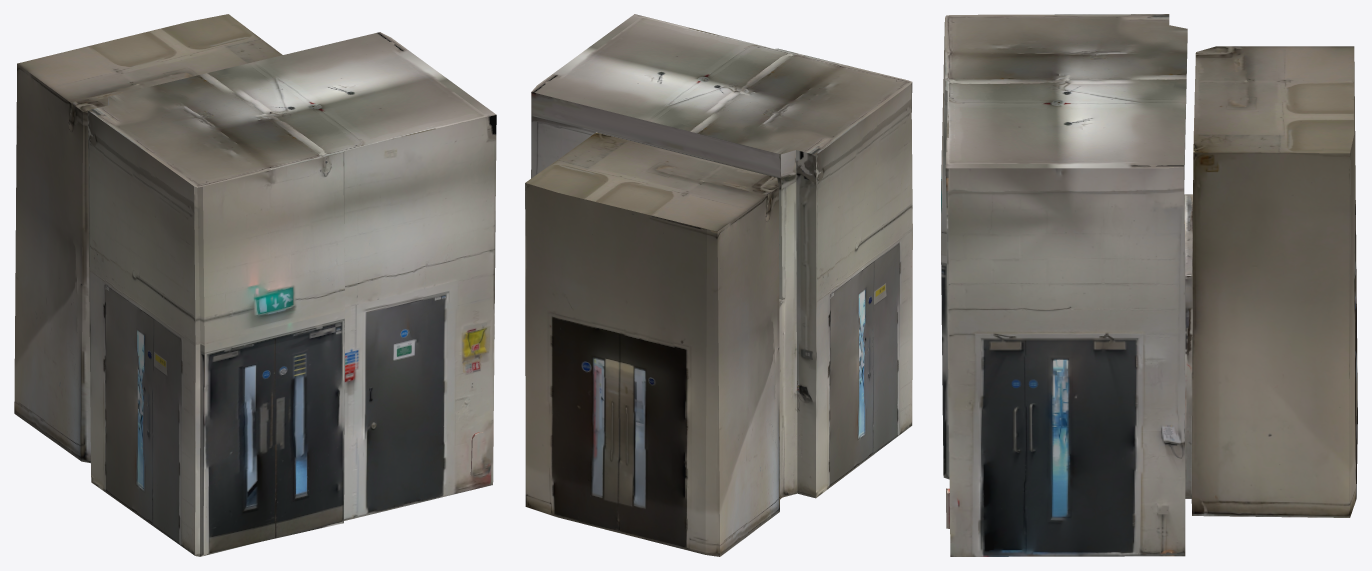
File: D-block-stairs-room.fbx
3 renders of one model, left to right at view 1: azimuth 30°, elevation 25°; view 2: azimuth 150°, elevation 25°; view 3: azimuth 270°, elevation 25°, orthographic. The views are drawn at different scales.
Parts seen in each view (by area): view 1: D-block-stairs-room; view 2: D-block-stairs-room; view 3: D-block-stairs-room.
Boxes of the visible parts, left/top/right/bottom form: D-block-stairs-room: left=14, top=14, right=496, bottom=556; D-block-stairs-room: left=525, top=14, right=912, bottom=556; D-block-stairs-room: left=941, top=14, right=1357, bottom=556.
Size of the model in its own units: 304 by 357 by 347.
Materials: 1 (1 with a texture image).
